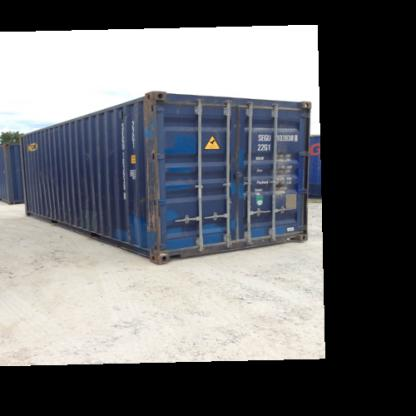Damage: (141, 171, 171, 254), (270, 138, 295, 195), (35, 184, 56, 217), (104, 140, 137, 160), (80, 182, 107, 197)
